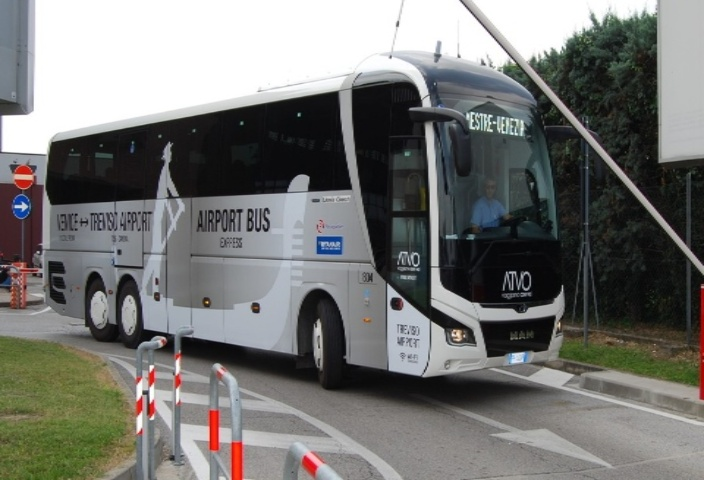bus: (30, 42, 573, 387)
